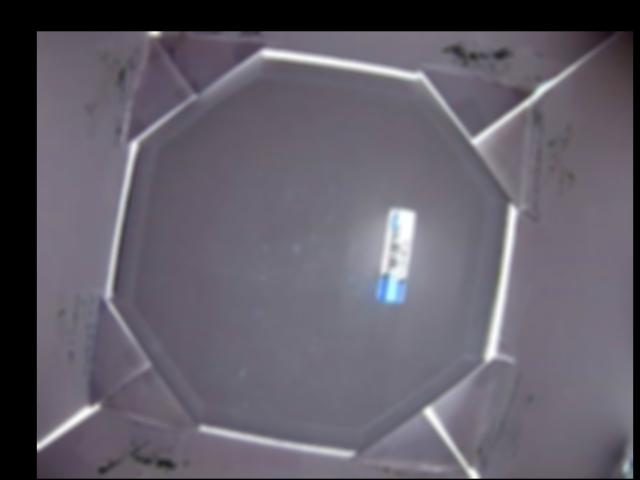Battery: (377, 209, 416, 305)
